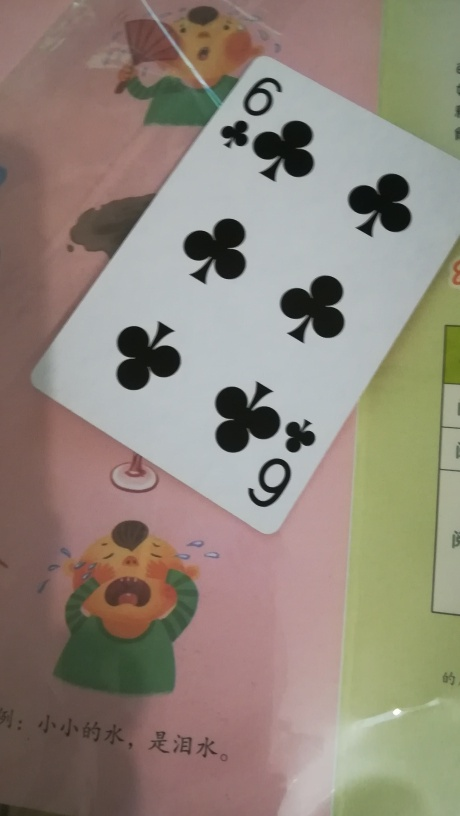mh 6: (31, 54, 460, 538)
